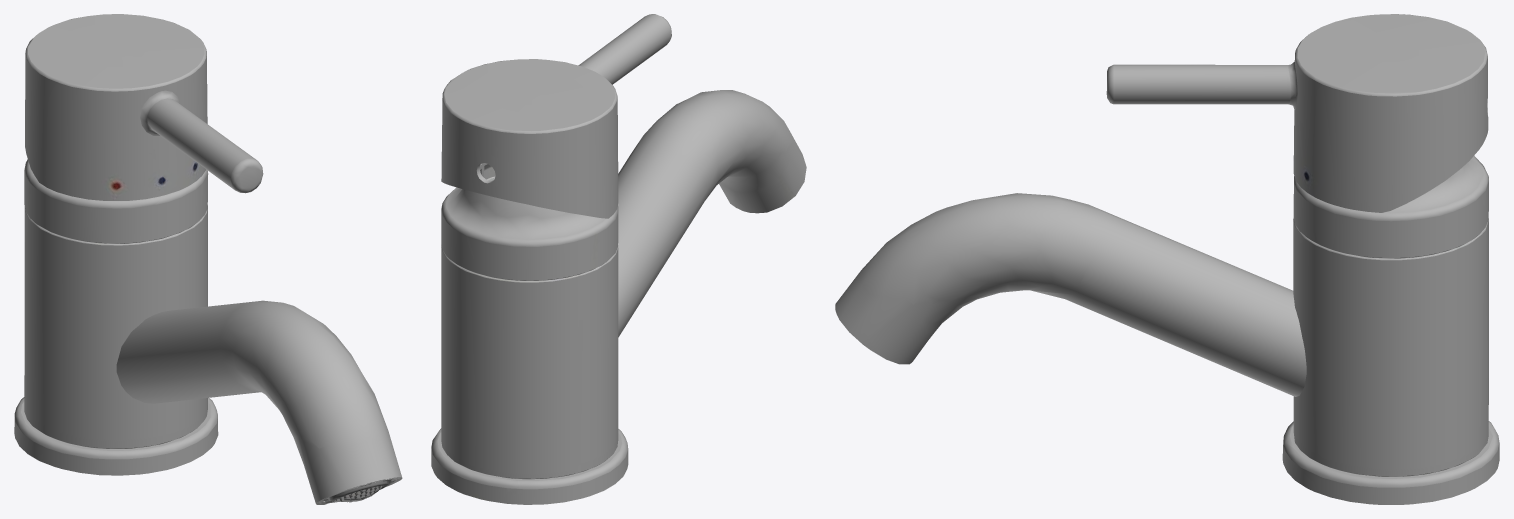
The model's file is PILKÅN Mitigeur lavabo chromé.glb.
3 renders of one model, left to right at view 1: azimuth 30°, elevation 25°; view 2: azimuth 150°, elevation 25°; view 3: azimuth 270°, elevation 25°, orthographic. The views are drawn at different scales.
Visible parts, largest first — view 1: ASY_ART_50532850_S01_NV01, ASY_LPT01_50532850_S01_NV01; view 2: ASY_ART_50532850_S01_NV01, ASY_LPT01_50532850_S01_NV01; view 3: ASY_ART_50532850_S01_NV01, ASY_LPT01_50532850_S01_NV01.
Part boxes in pixels (left/top/right/bottom): ASY_ART_50532850_S01_NV01: left=14, top=159, right=402, bottom=504; ASY_LPT01_50532850_S01_NV01: left=25, top=14, right=263, bottom=200; ASY_ART_50532850_S01_NV01: left=431, top=90, right=806, bottom=504; ASY_LPT01_50532850_S01_NV01: left=441, top=14, right=671, bottom=218; ASY_ART_50532850_S01_NV01: left=835, top=155, right=1499, bottom=504; ASY_LPT01_50532850_S01_NV01: left=1106, top=14, right=1488, bottom=212.
Size of the model in its own units: 0.0494 by 0.1029 by 0.1517.
2 materials, 2 textured.
